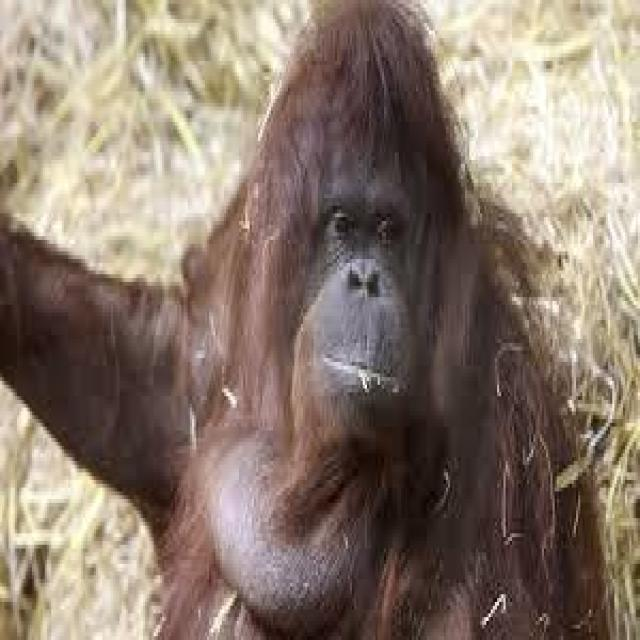Chimpanzee: (142, 0, 581, 640)
